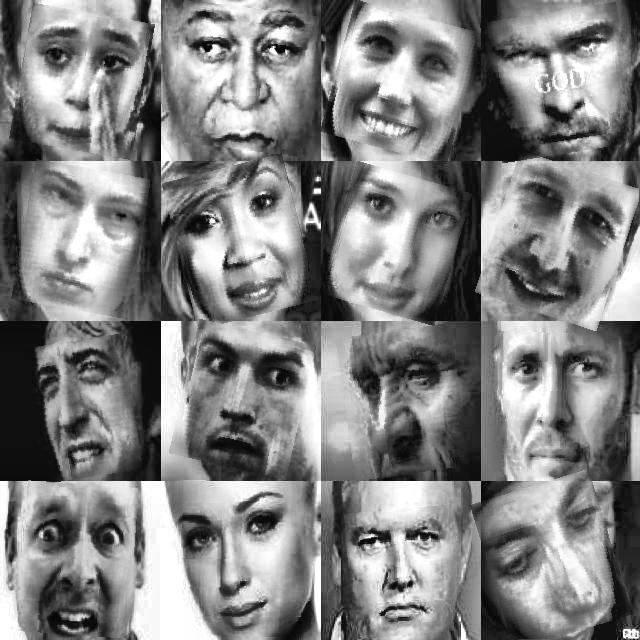angry: (485, 7, 633, 159), (341, 326, 465, 478), (494, 332, 618, 478), (30, 337, 138, 480), (346, 507, 456, 637)
fear: (176, 325, 310, 475), (20, 482, 136, 637)
happy: (485, 158, 633, 323), (170, 160, 310, 323), (328, 6, 473, 157), (328, 168, 464, 320), (175, 481, 291, 637)
sad: (480, 476, 623, 640), (170, 4, 315, 154), (14, 8, 150, 156), (17, 164, 144, 314)
